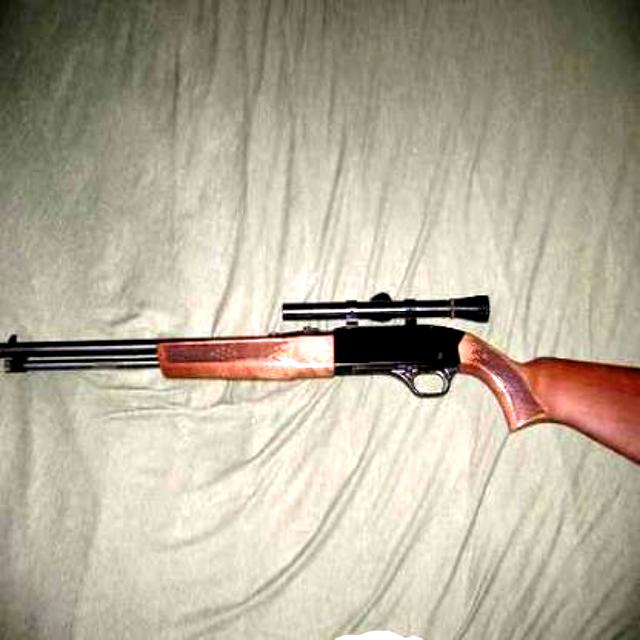rifle: (0, 286, 640, 462)
